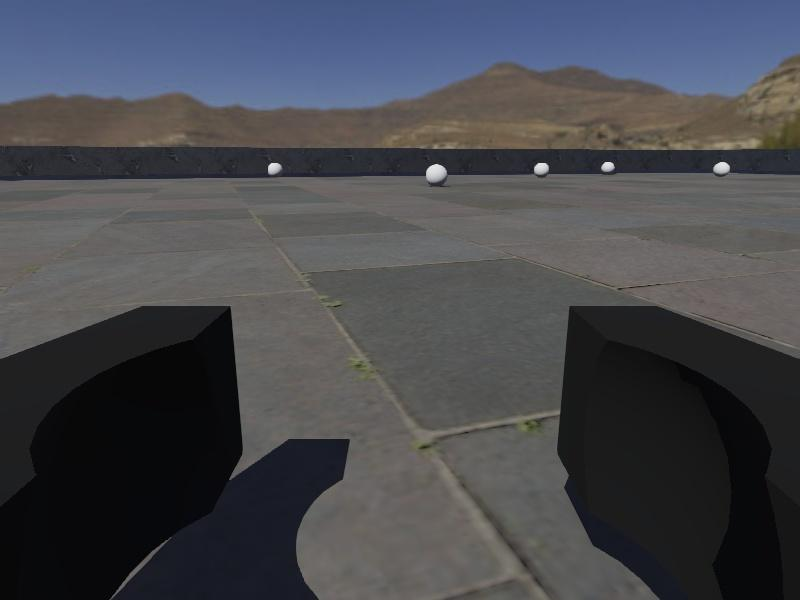white ball: (424, 162, 449, 188), (712, 160, 732, 177), (533, 161, 551, 178), (600, 159, 617, 175), (267, 162, 284, 177)
